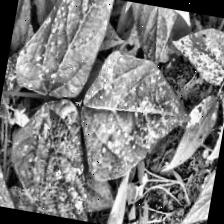Bean Rust: (73, 54, 184, 182), (5, 97, 106, 222), (19, 0, 115, 104), (173, 116, 223, 224), (174, 22, 224, 85), (0, 102, 29, 207)
